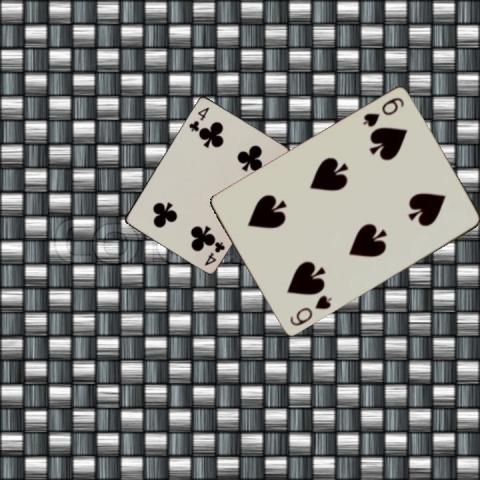4c: (185, 104, 211, 133), (201, 238, 227, 266)
6s: (286, 292, 332, 328), (360, 95, 406, 129)
